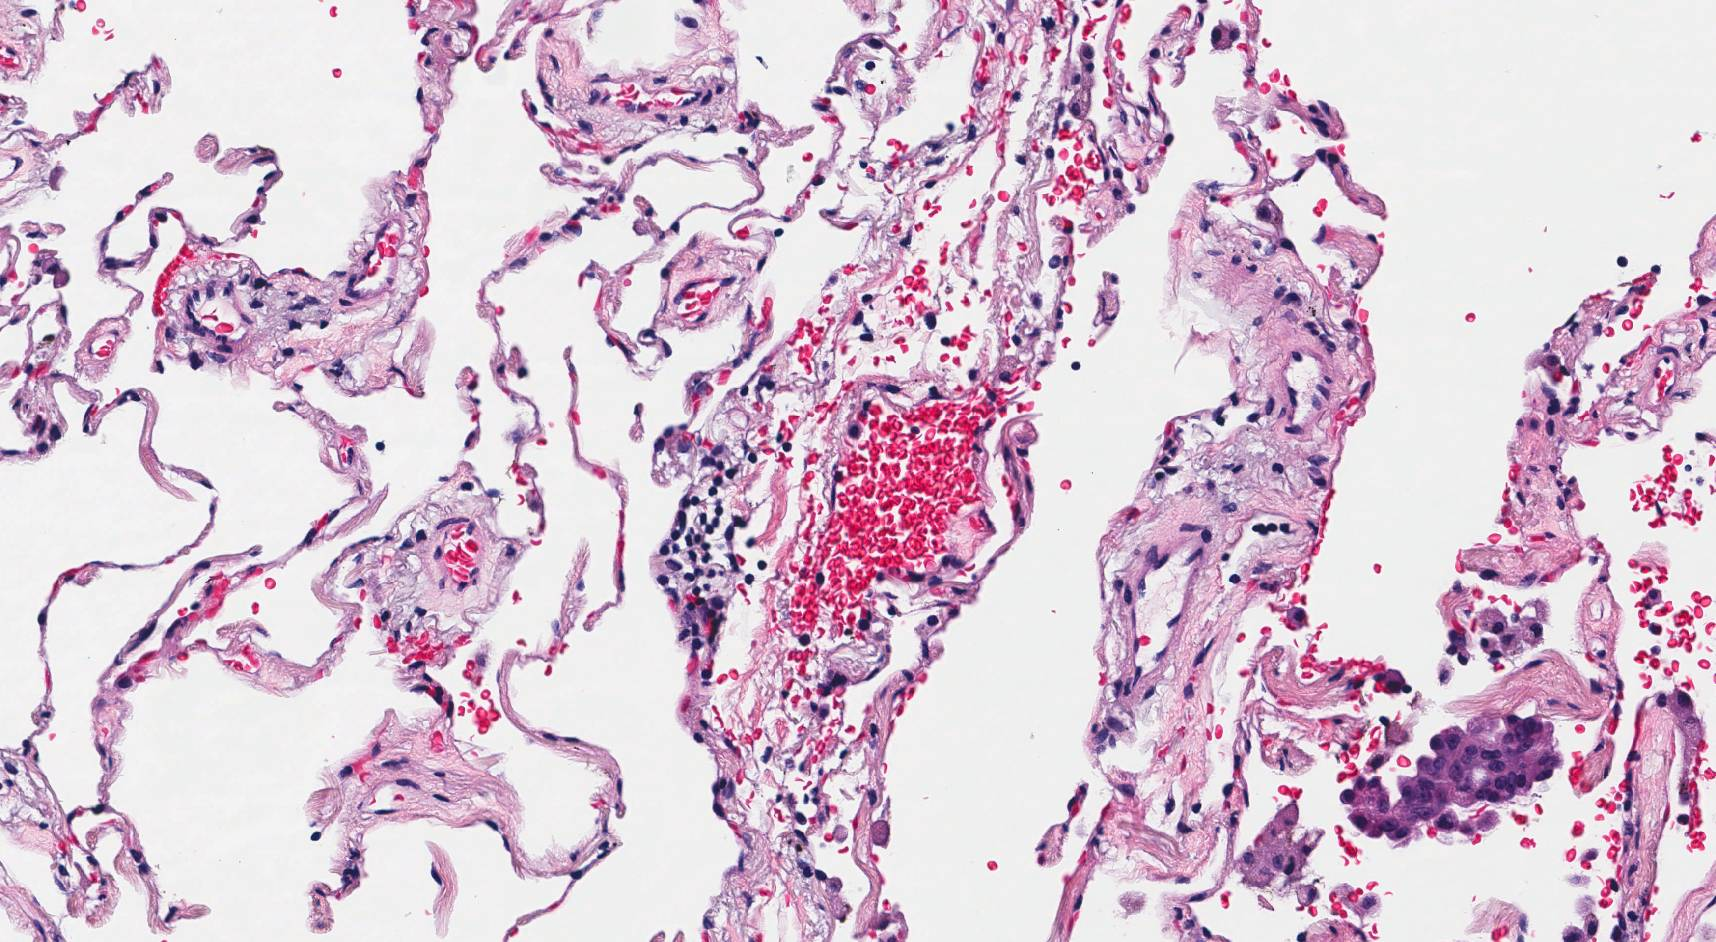stas: (1339, 713, 1558, 844)
